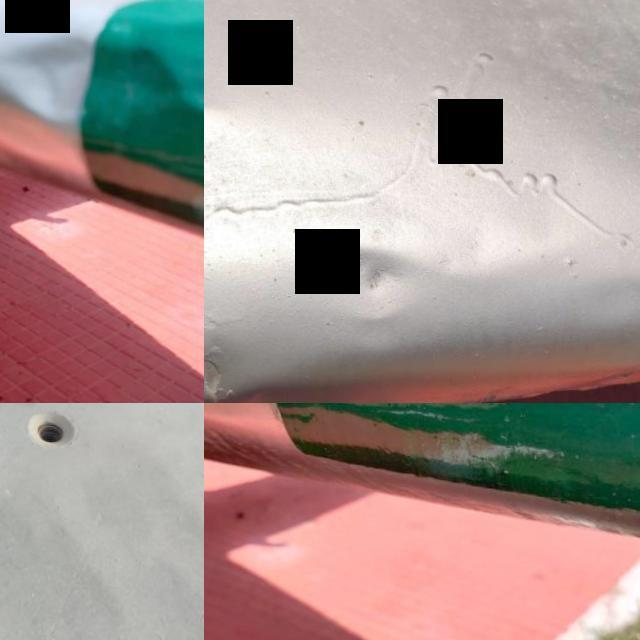Dent: (0, 4, 204, 159), (294, 196, 440, 355), (204, 304, 309, 403)
Missing_Fastener: (0, 403, 109, 483)
